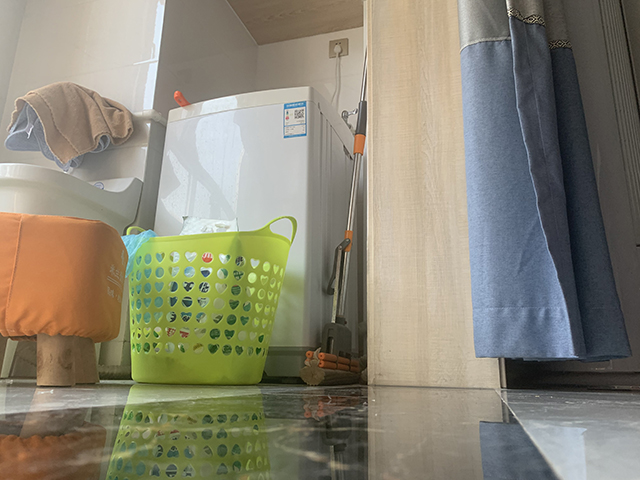curtain: (457, 1, 634, 364)
stool: (1, 211, 129, 388)
